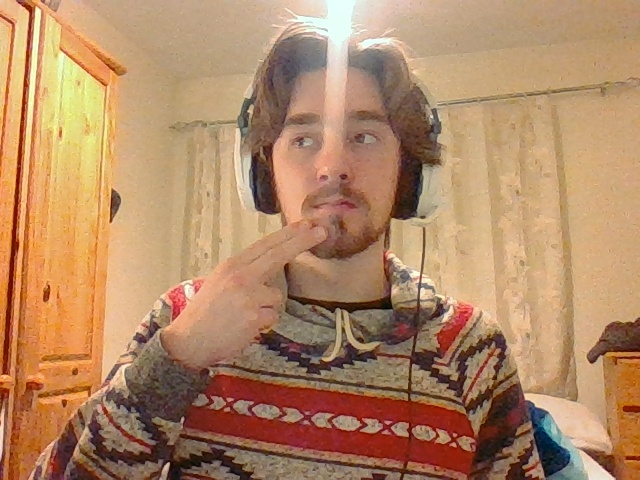afternoon: (156, 219, 329, 374)
